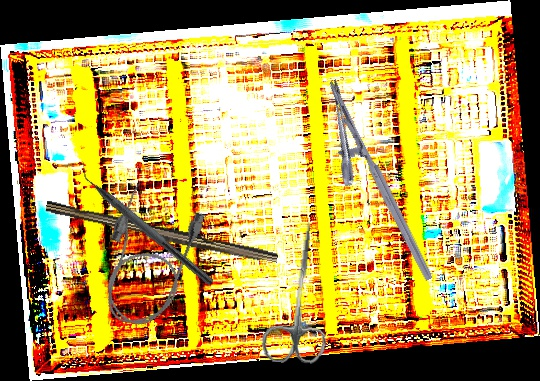Cannula: (85, 179, 210, 336)
Chopper: (71, 158, 222, 287)
Iris Scissors: (259, 217, 340, 368)
Needle Holder: (300, 78, 435, 295)
Scalpel Handle: (43, 200, 280, 268)
